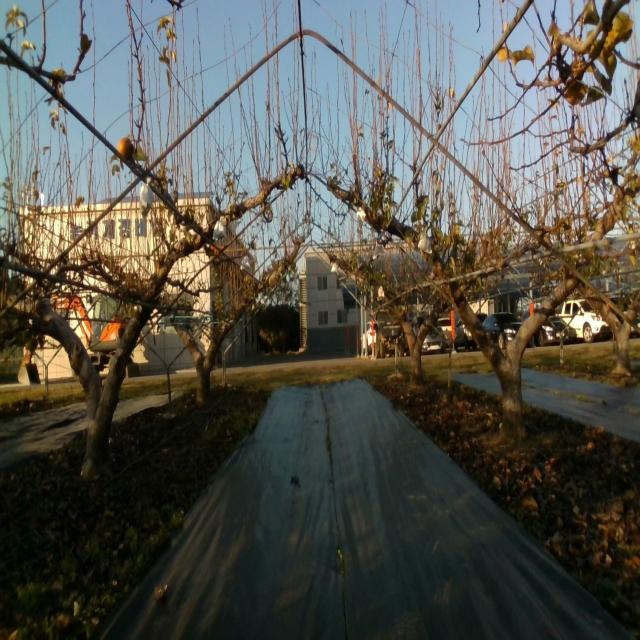pearbags: (140, 176, 154, 220), (417, 232, 433, 255), (212, 216, 226, 242)
